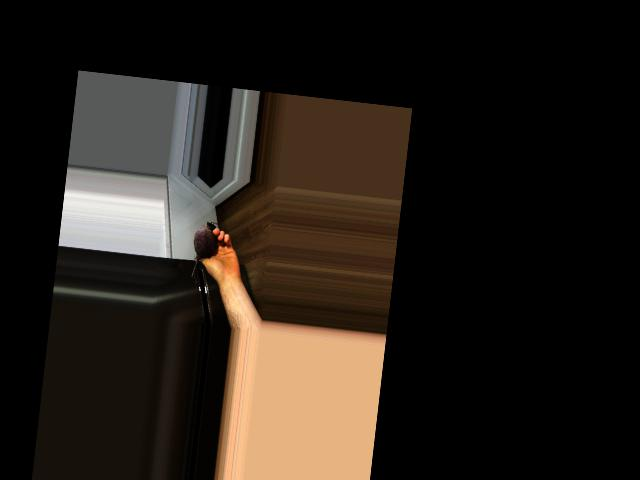beet: (189, 219, 218, 279)
